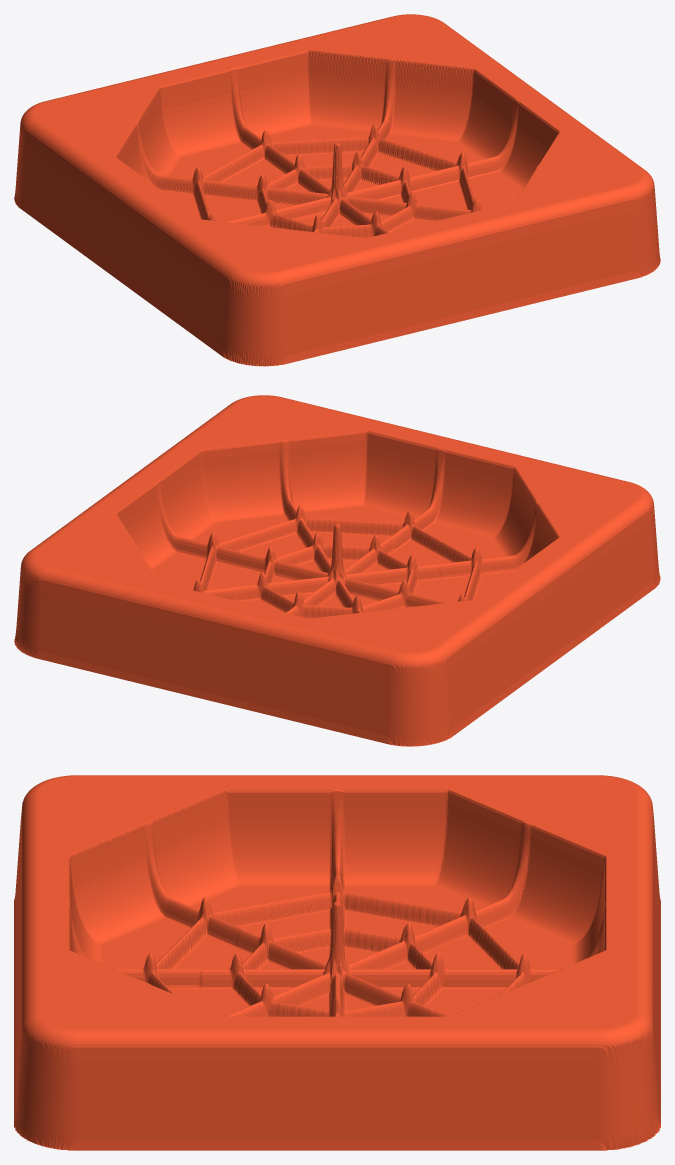
File: mold.glb
3 renders of one model, top to bottom at view 1: azimuth 30°, elevation 25°; view 2: azimuth 150°, elevation 25°; view 3: azimuth 270°, elevation 25°, orthographic. The views are drawn at different scales.
Visible parts, largest first — view 1: geometry_0; view 2: geometry_0; view 3: geometry_0.
Part boxes in pixels (box(x1,y1,x2,y2)): geometry_0: box(14, 14, 660, 366); geometry_0: box(14, 395, 660, 746); geometry_0: box(14, 775, 660, 1150).
Size of the model in its own units: 0.0924 by 0.0175 by 0.0924.
